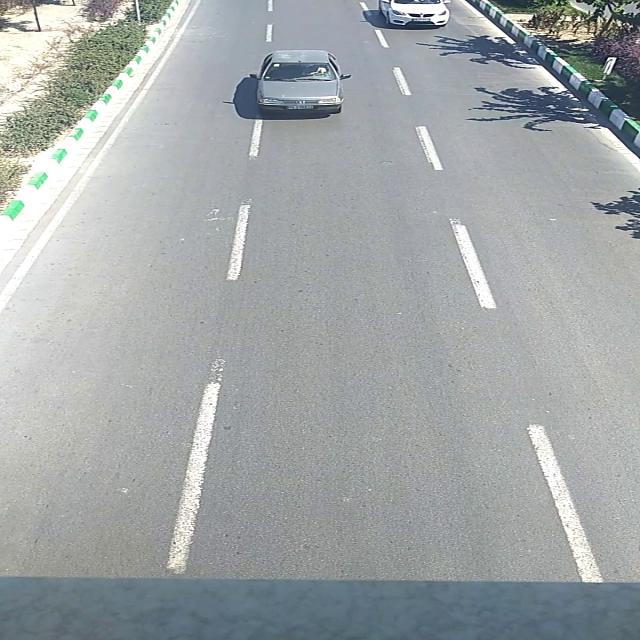car: (251, 50, 353, 116), (380, 0, 454, 28)
